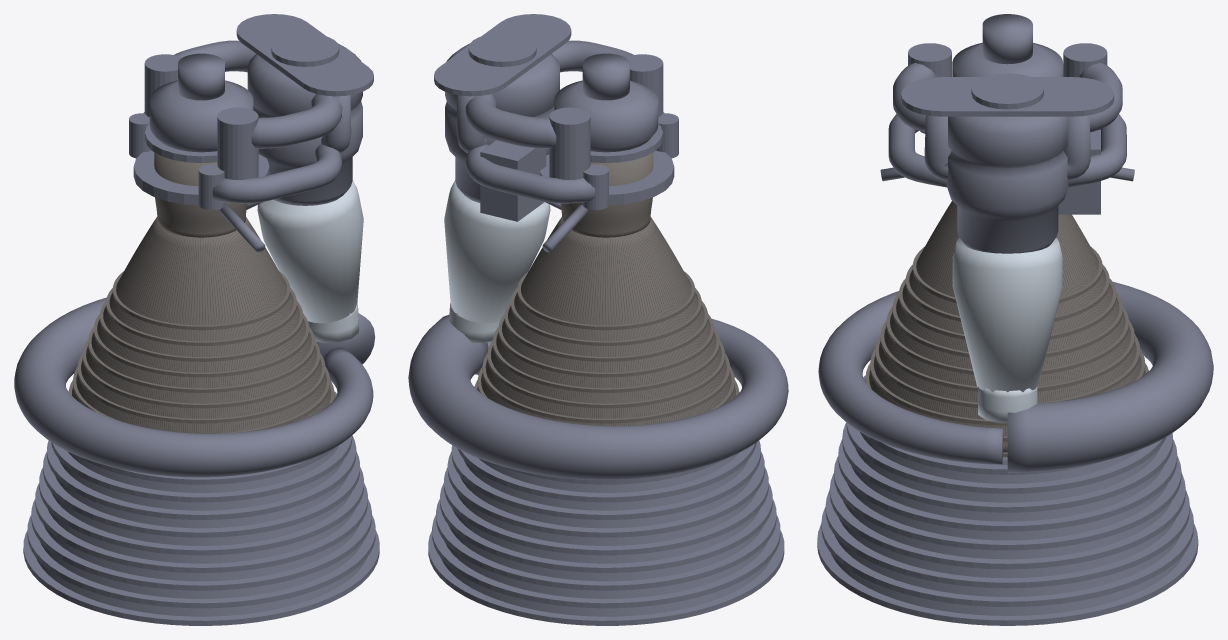
3 renders of one model, left to right at view 1: azimuth 30°, elevation 25°; view 2: azimuth 150°, elevation 25°; view 3: azimuth 270°, elevation 25°, orthographic. The views are drawn at different scales.
Visible parts, largest first — view 1: f1_nozzle, f1_manifold, f1_extension, f1_heat_exchanger, f1_turbopump, f1_powerhead, f1_extension_hoop_00, f1_extension_hoop_01, f1_extension_hoop_02, f1_extension_hoop_03, f1_extension_hoop_04, f1_extension_hoop_05 (+29 smaller); view 2: f1_nozzle, f1_manifold, f1_extension, f1_heat_exchanger, f1_powerhead, f1_extension_hoop_00, f1_extension_hoop_01, f1_turbopump, f1_extension_hoop_02, f1_extension_hoop_03, f1_extension_hoop_04, f1_extension_hoop_05 (+29 smaller); view 3: f1_manifold, f1_extension, f1_nozzle, f1_turbopump, f1_heat_exchanger, f1_extension_hoop_00, f1_extension_hoop_01, f1_extension_hoop_02, f1_extension_hoop_03, f1_extension_hoop_04, f1_extension_hoop_05, f1_extension_hoop_06 (+26 smaller).
Boxes of the visible parts, <box> form: f1_nozzle: <box>72,217,331,433</box>; f1_manifold: <box>14,297,375,477</box>; f1_extension: <box>36,445,367,616</box>; f1_heat_exchanger: <box>257,180,363,323</box>; f1_turbopump: <box>247,43,362,205</box>; f1_powerhead: <box>149,80,253,152</box>; f1_extension_hoop_00: <box>23,530,379,625</box>; f1_extension_hoop_01: <box>27,515,375,608</box>; f1_extension_hoop_02: <box>31,499,371,590</box>; f1_extension_hoop_03: <box>35,483,367,572</box>; f1_extension_hoop_04: <box>39,467,363,555</box>; f1_extension_hoop_05: <box>43,451,359,537</box>; f1_nozzle: <box>477,217,735,425</box>; f1_manifold: <box>408,315,788,479</box>; f1_extension: <box>440,453,771,616</box>; f1_heat_exchanger: <box>444,180,550,323</box>; f1_powerhead: <box>554,80,658,152</box>; f1_extension_hoop_00: <box>428,530,784,625</box>; f1_extension_hoop_01: <box>432,515,780,608</box>; f1_turbopump: <box>445,43,559,202</box>; f1_extension_hoop_02: <box>436,499,776,590</box>; f1_extension_hoop_03: <box>440,483,772,572</box>; f1_extension_hoop_04: <box>444,467,768,555</box>; f1_extension_hoop_05: <box>447,451,764,537</box>; f1_manifold: <box>818,281,1213,472</box>; f1_extension: <box>831,432,1184,615</box>; f1_nozzle: <box>869,201,1145,452</box>; f1_turbopump: <box>946,116,1068,253</box>; f1_heat_exchanger: <box>952,238,1062,392</box>; f1_extension_hoop_00: <box>817,524,1198,625</box>; f1_extension_hoop_01: <box>821,507,1193,606</box>; f1_extension_hoop_02: <box>825,490,1189,588</box>; f1_extension_hoop_03: <box>829,473,1185,569</box>; f1_extension_hoop_04: <box>834,456,1181,550</box>; f1_extension_hoop_05: <box>838,439,1177,531</box>; f1_extension_hoop_06: <box>842,422,1172,512</box>.
Size of the model in its own units: 4.09 by 5.7 by 3.93.
Materials: 4 (1 with a texture image).
